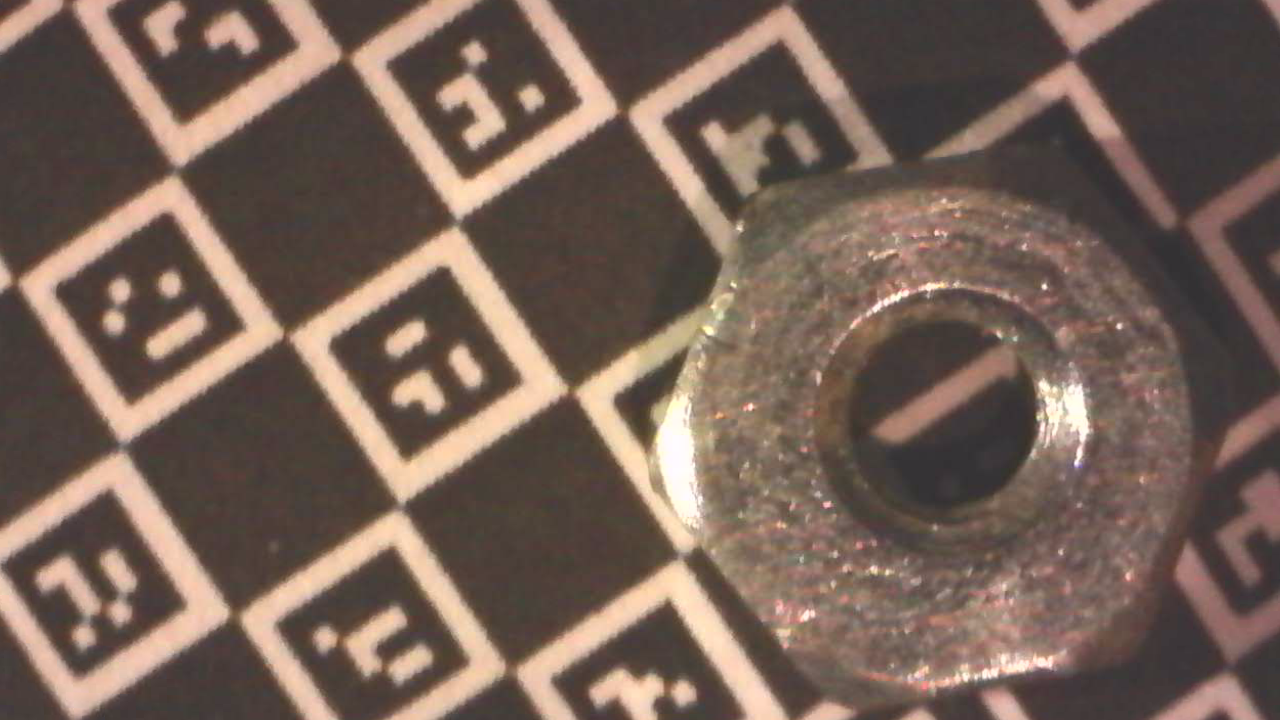Bolt: (649, 142, 1236, 708)
